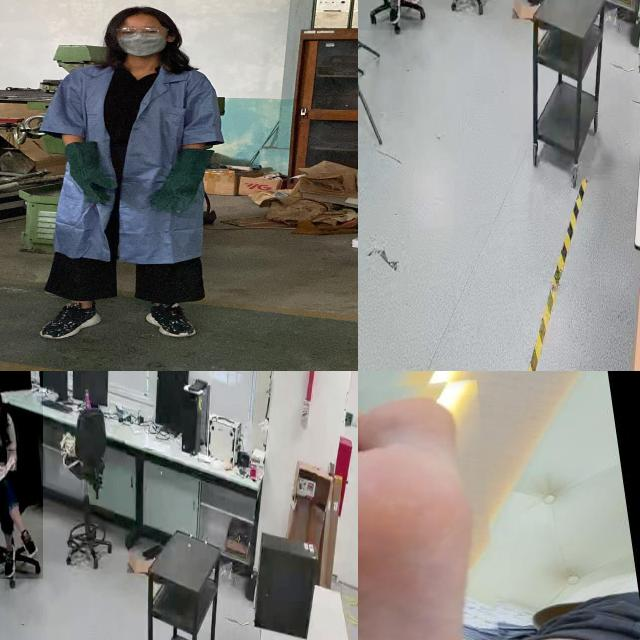Barefoots: (358, 391, 521, 640)
face_mask: (111, 24, 173, 56), (0, 403, 7, 426)
glasses: (113, 25, 171, 38)
hand_glove: (0, 371, 43, 580), (141, 172, 203, 214), (62, 167, 125, 208)
hand_noglove: (7, 451, 17, 471), (0, 462, 5, 478)
head_nohelmet: (108, 3, 178, 26)
person: (40, 1, 219, 342)
shoes: (35, 300, 111, 342), (140, 301, 203, 341), (2, 540, 17, 586), (20, 530, 40, 562), (385, 0, 402, 27)
